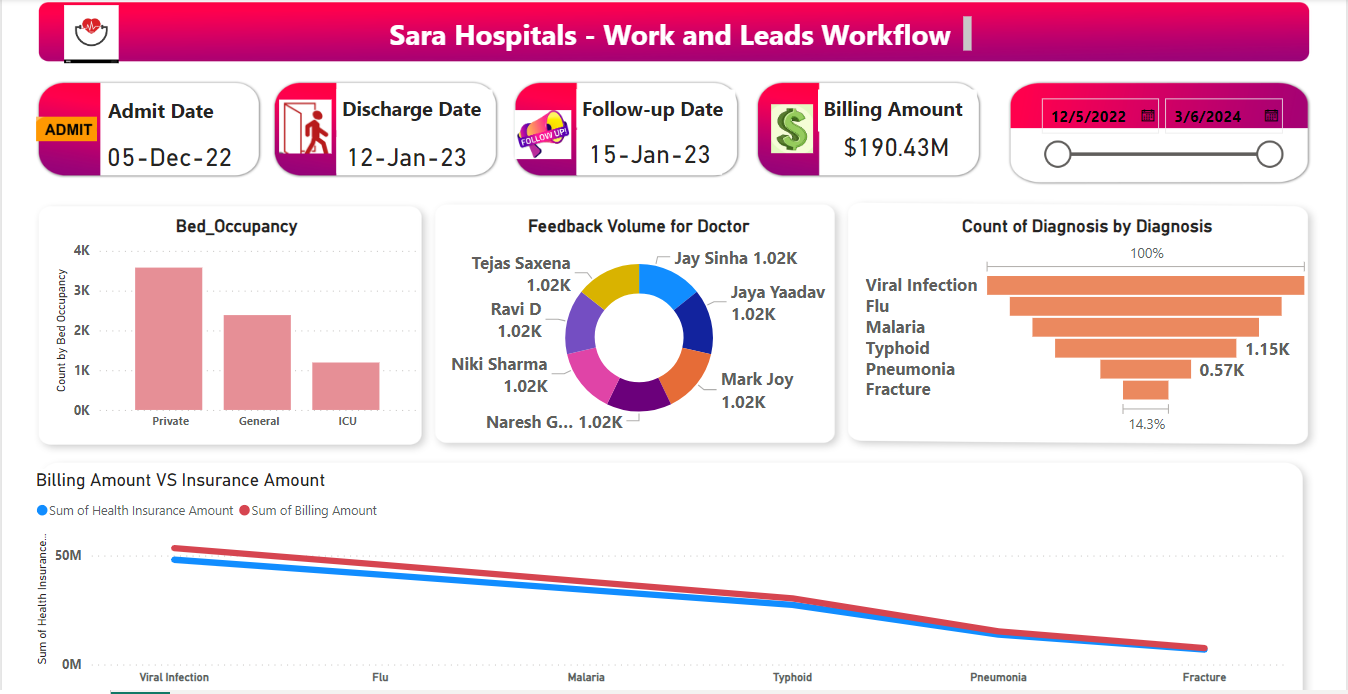

The page's visual inventory and layout, read from the dashboard file:
{"tool":"powerbi","page":{"name":"Page 1","canvas":[1280,720],"ordinal":0},"visuals":[{"type":"image","box":[27.1,12.9,115.7,65.7],"z":0},{"type":"textbox","box":[351.4,22.9,577.1,44.3],"z":1},{"type":"card","fields":{"Values":["Sheet1.Admit_Date"]},"box":[75.7,137.1,167.1,50],"z":2},{"type":"textbox","box":[95.7,100,128.6,37.1],"z":3},{"type":"textbox","box":[318.6,98.6,148.6,38.6],"z":4},{"type":"card","fields":{"Values":["Sheet1.Discharge_Date"]},"box":[318.6,144.3,132.9,34.3],"z":5},{"type":"card","fields":{"Values":["Sheet1.Followup Date"]},"box":[547.1,137.1,138.6,42.9],"z":6},{"type":"textbox","box":[547.1,98.6,151.4,35.7],"z":7},{"type":"card","fields":{"Values":["Sheet1.Billing Amount"]},"box":[787.1,125.7,128.6,52.9],"z":8},{"type":"textbox","box":[777.1,98.6,151.4,40],"z":9},{"type":"slicer","fields":{"Values":["Sheet1.Admit_Date"]},"box":[977.1,97.1,251.4,80],"z":10},{"type":"columnChart","title":"Bed_Occupancy","fields":{"Category":["Sheet1.Bed_Occupancy"],"Y":["Sheet1.Bed_Occupancy"]},"box":[45.7,218.6,355.7,212.9],"z":11},{"type":"donutChart","title":"Feedback Volume for Doctor","fields":{"Y":["Sheet1.Doctor"],"Category":["Sheet1.Doctor"]},"box":[428.6,218.6,355.7,212.9],"z":12},{"type":"funnel","fields":{"Category":["Sheet1.Diagnosis"],"Y":["Sheet1.Diagnosis"]},"box":[817.1,218.6,432.9,212.9],"z":13},{"type":"lineChart","title":"Billing Amount VS Insurance Amount","fields":{"Category":["Sheet1.Diagnosis"],"Y":["Sheet1.Health Insurance Amount","Sheet1.Billing Amount"]},"box":[27.1,460,1201.4,212.9],"z":14},{"type":"image","box":[27.1,117.1,68.6,38.6],"z":15},{"type":"image","box":[258.6,102.9,60,61.4],"z":16},{"type":"image","box":[482.9,102.9,64.3,77.1],"z":17},{"type":"image","box":[727.1,98.6,50,74.3],"z":18}]}

Visuals, with their boxes on the page's 1280x720 design canvas (x1, y1, x2, y2). These are canvas units, not pixel positions in the 1348x694 screenshot, which may show the page scaled, cropped or inside an application window:
image: detection(27, 13, 143, 79)
textbox: detection(351, 23, 928, 67)
card - Sheet1.Admit_Date: detection(76, 137, 243, 187)
textbox: detection(96, 100, 224, 137)
textbox: detection(319, 99, 467, 137)
card - Sheet1.Discharge_Date: detection(319, 144, 452, 179)
card - Sheet1.Followup Date: detection(547, 137, 686, 180)
textbox: detection(547, 99, 698, 134)
card - Sheet1.Billing Amount: detection(787, 126, 916, 179)
textbox: detection(777, 99, 928, 139)
slicer - Sheet1.Admit_Date: detection(977, 97, 1228, 177)
"Bed_Occupancy" columnChart: detection(46, 219, 401, 432)
"Feedback Volume for Doctor" donutChart: detection(429, 219, 784, 432)
funnel - Sheet1.Diagnosis x Sheet1.Diagnosis: detection(817, 219, 1250, 432)
"Billing Amount VS Insurance Amount" lineChart: detection(27, 460, 1228, 673)
image: detection(27, 117, 96, 156)
image: detection(259, 103, 319, 164)
image: detection(483, 103, 547, 180)
image: detection(727, 99, 777, 173)
